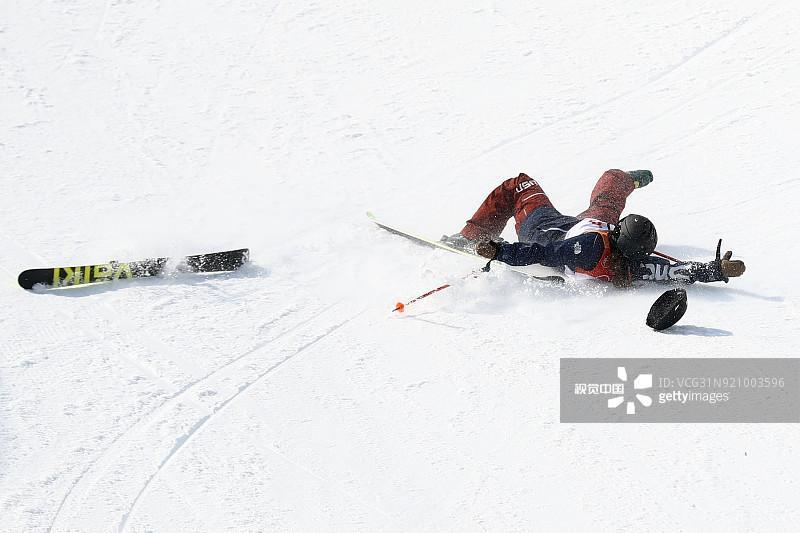Fall-Detected: (378, 152, 758, 312)
